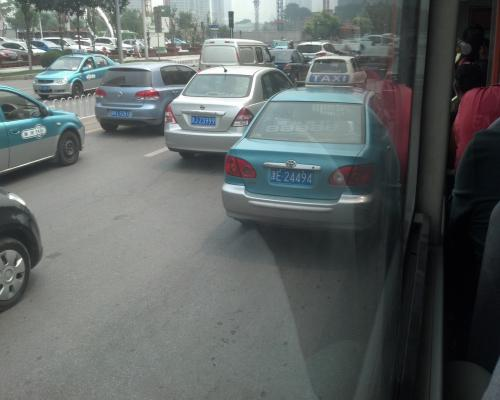Carplate: (266, 163, 317, 190)
